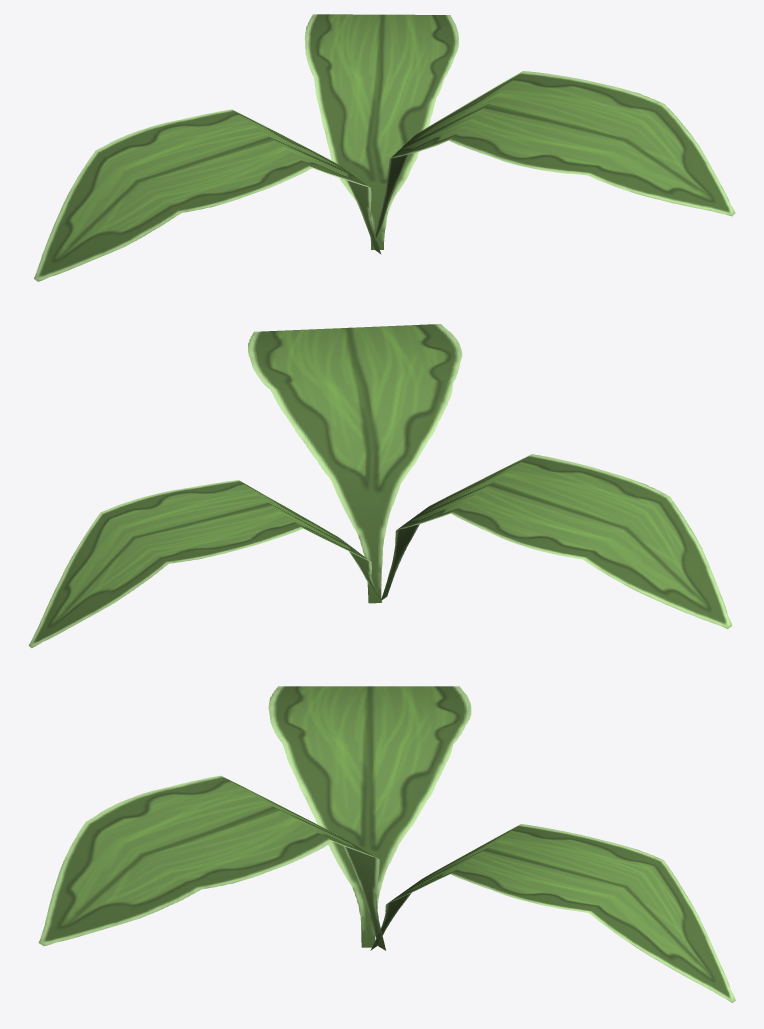
Rendered from FarnMesh01.fbx.
The picture shows the model from 3 angles, top to bottom: view 1: azimuth 30°, elevation 25°; view 2: azimuth 150°, elevation 25°; view 3: azimuth 270°, elevation 25°; orthographic projection. The views are drawn at different scales.
Parts seen in each view (by area): view 1: FarnMesh01; view 2: FarnMesh01; view 3: FarnMesh01.
Part boxes in pixels (x1,y1,x2,y2): FarnMesh01: [34, 14, 735, 281]; FarnMesh01: [28, 324, 732, 647]; FarnMesh01: [38, 686, 735, 1002].
Size of the model in its own units: 1913 by 519 by 2008.
1 material, 1 textured.
